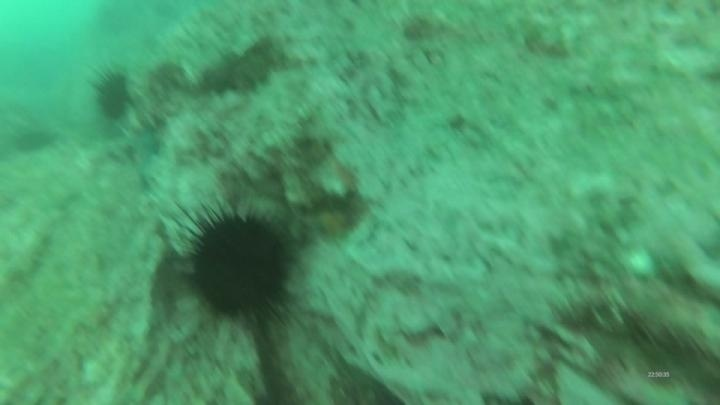echinus: (172, 196, 304, 334), (88, 66, 135, 125), (10, 124, 60, 159)
